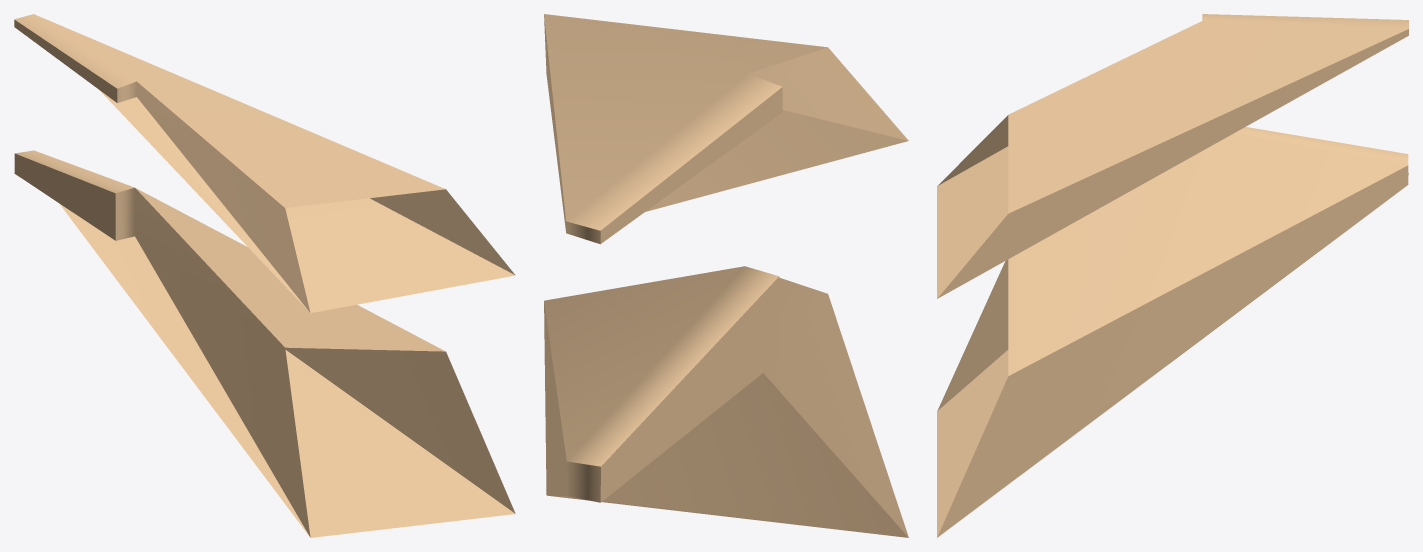
Rendered from AI_FX_LightRay_02.fbx.
The picture shows the model from 3 angles, left to right: view 1: azimuth 30°, elevation 25°; view 2: azimuth 150°, elevation 25°; view 3: azimuth 270°, elevation 25°; orthographic projection. The views are drawn at different scales.
Parts seen in each view (by area): view 1: AI_FX_LightRay_02; view 2: AI_FX_LightRay_02; view 3: AI_FX_LightRay_02.
Part boxes in pixels (x1=…): AI_FX_LightRay_02: x1=14, y1=14, x2=515, y2=537; AI_FX_LightRay_02: x1=544, y1=14, x2=908, y2=537; AI_FX_LightRay_02: x1=937, y1=14, x2=1408, y2=537.
Size of the model in its own units: 2.95 by 4.2 by 4.53.
